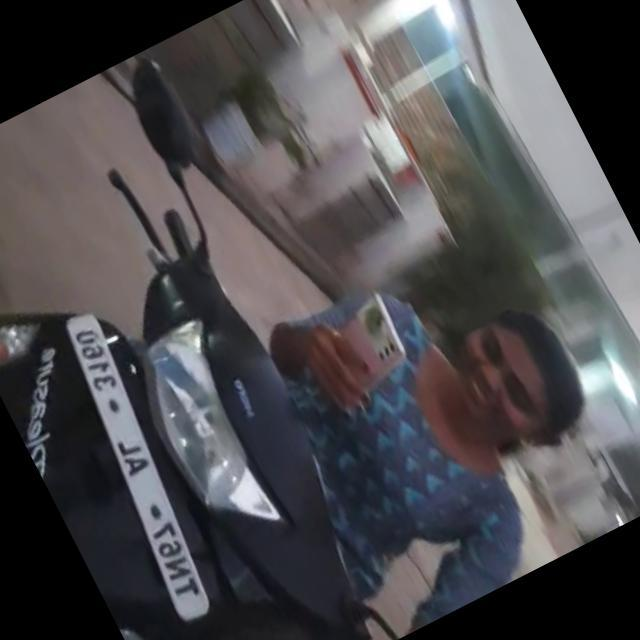USING_MOBILE: (255, 196, 609, 547)
